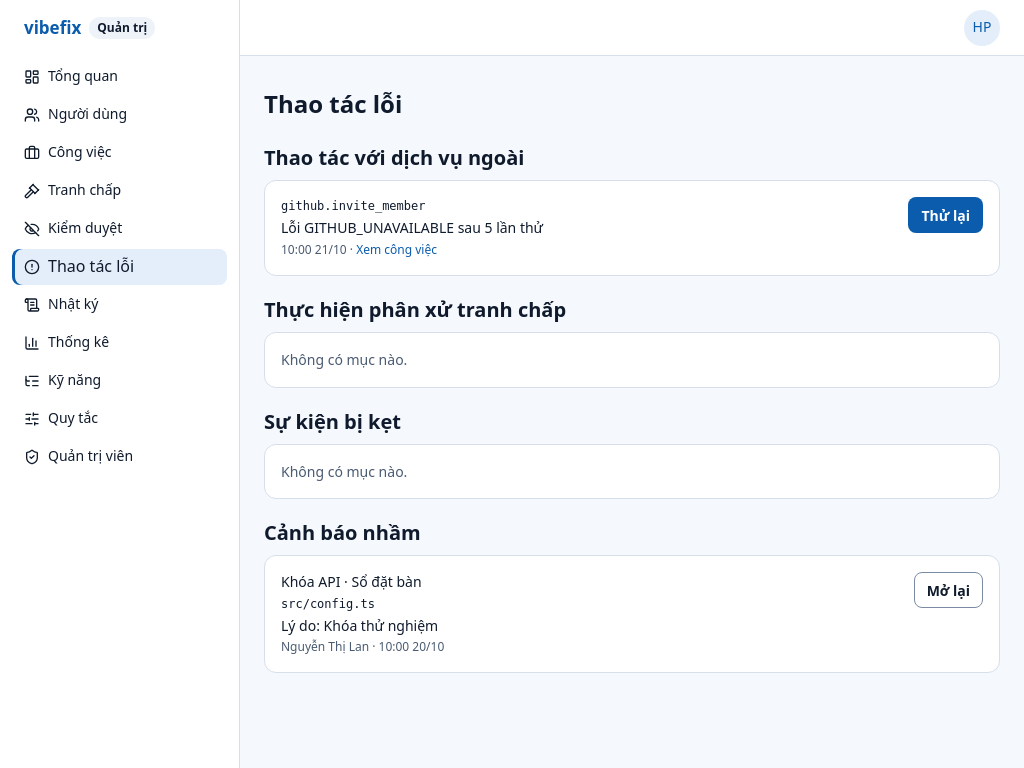
Test: ADM-7 failures (FR-64) › retries a failed operation through the step-up and reopens a false positive
This screenshot has width=1024, height=768.
Expected: the text "github.invite_member" is shown, [281, 199, 426, 213]
Click the button "Thử lại": (946,215) [908, 197, 983, 233]
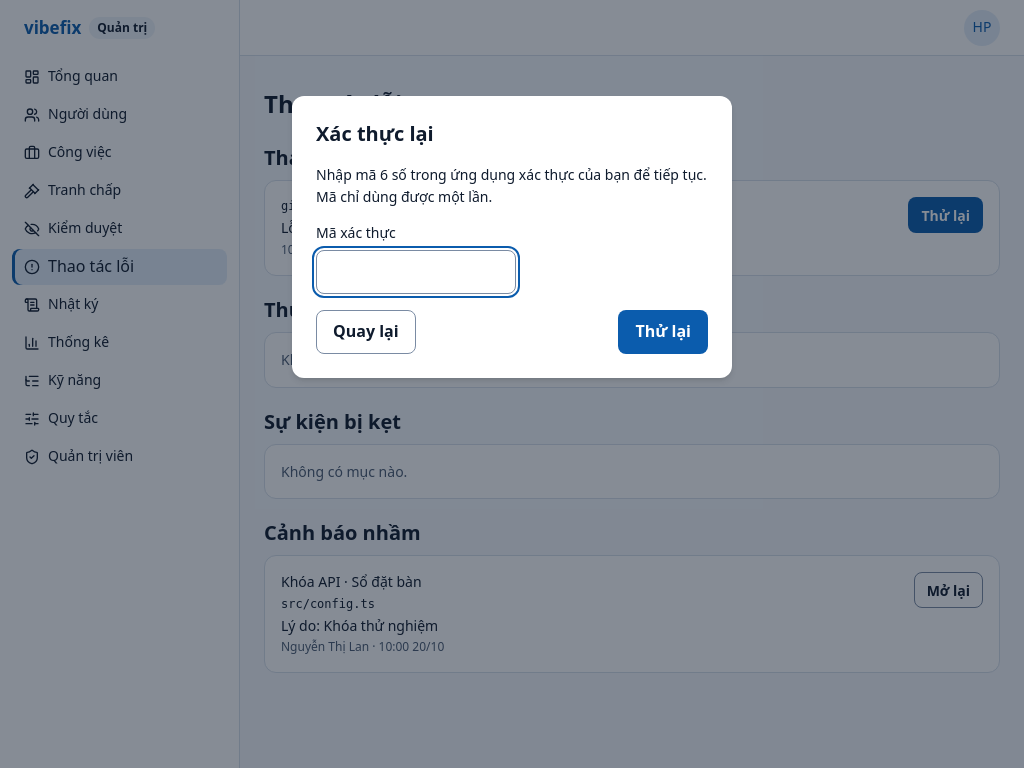
In the field: (416,272) [316, 250, 516, 294], type "123456"
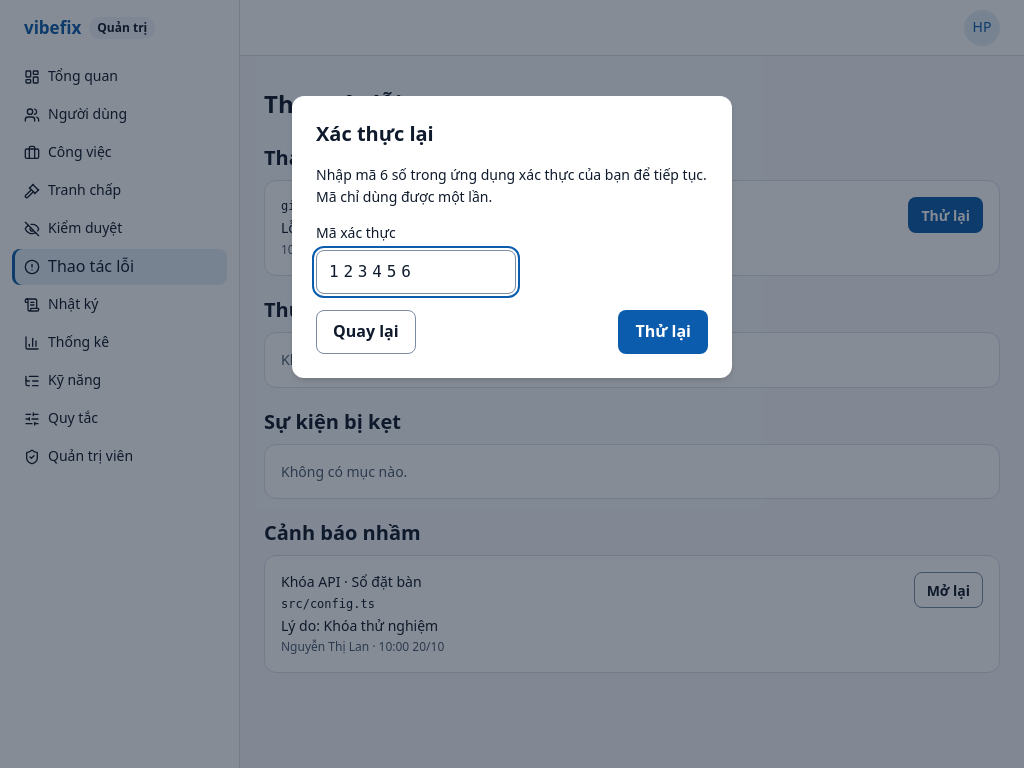
Click the button "Thử lại": (663,332) [618, 310, 708, 354]
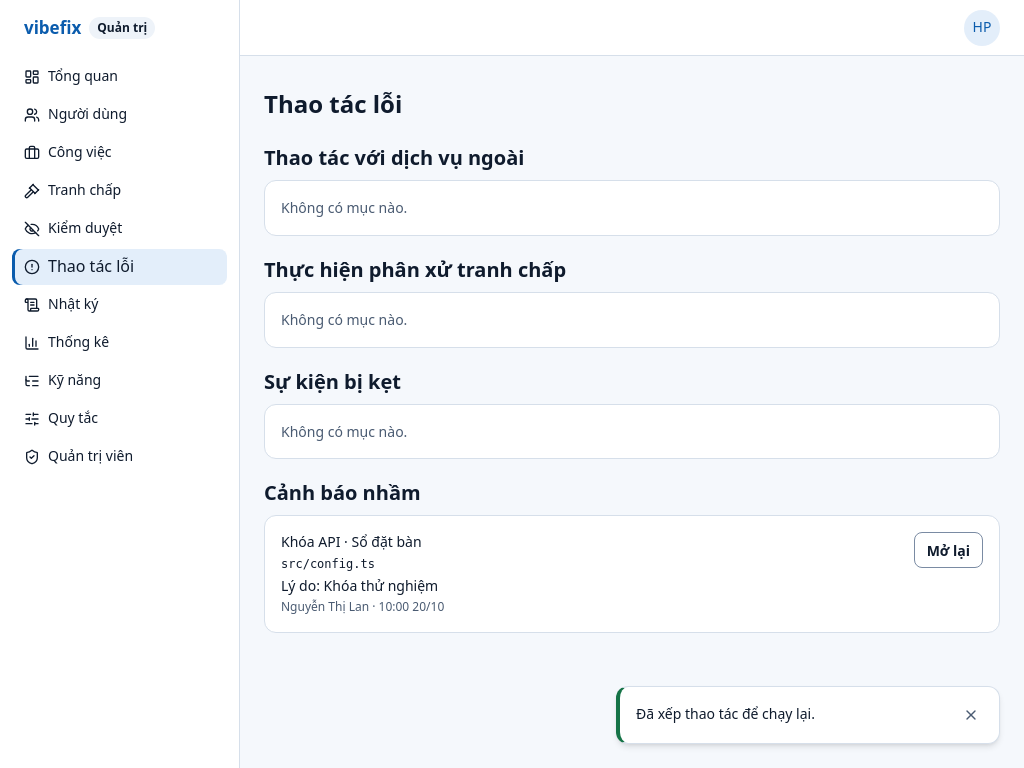
Expected: the text "Lý do: Khóa thử nghiệm" is shown, [281, 576, 438, 595]
Expected: the text "github.invite_member" is gone
Click the button "Mở lại": (948,550) [914, 532, 983, 568]
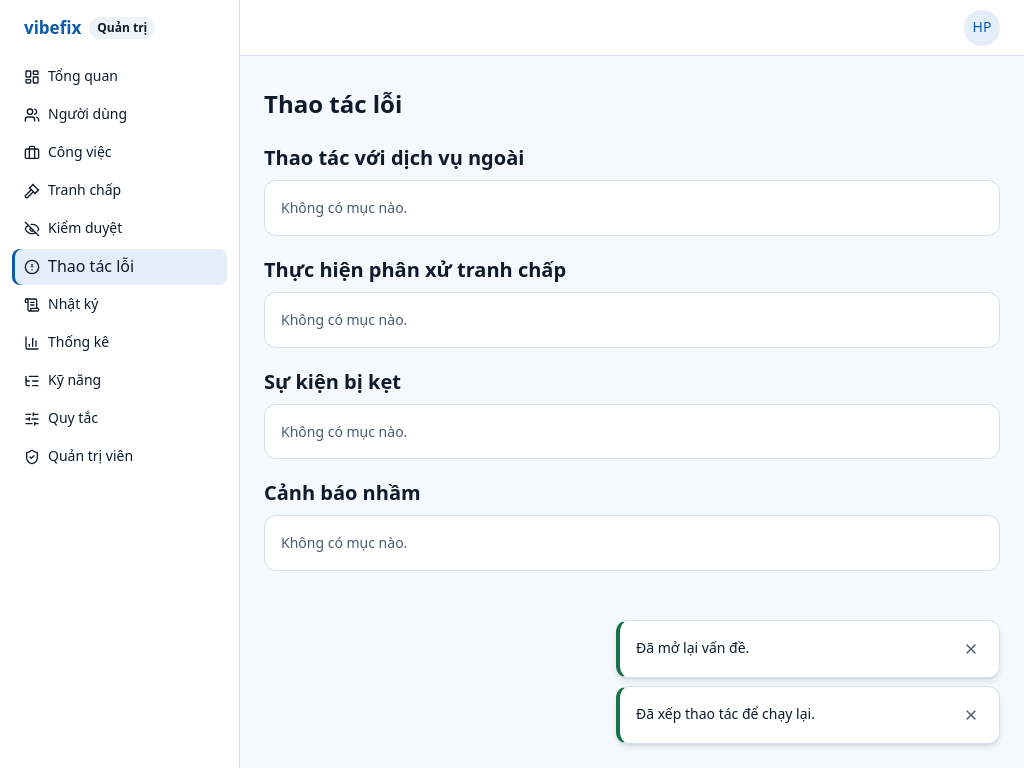
Expected: the text "Lý do: Khóa thử nghiệm" is gone
